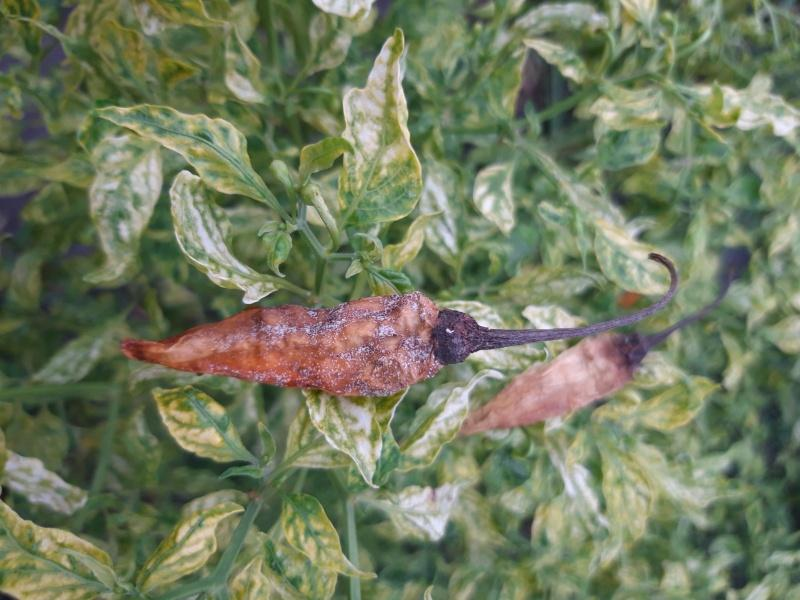antraknosa: (119, 292, 452, 395), (461, 328, 646, 435)
